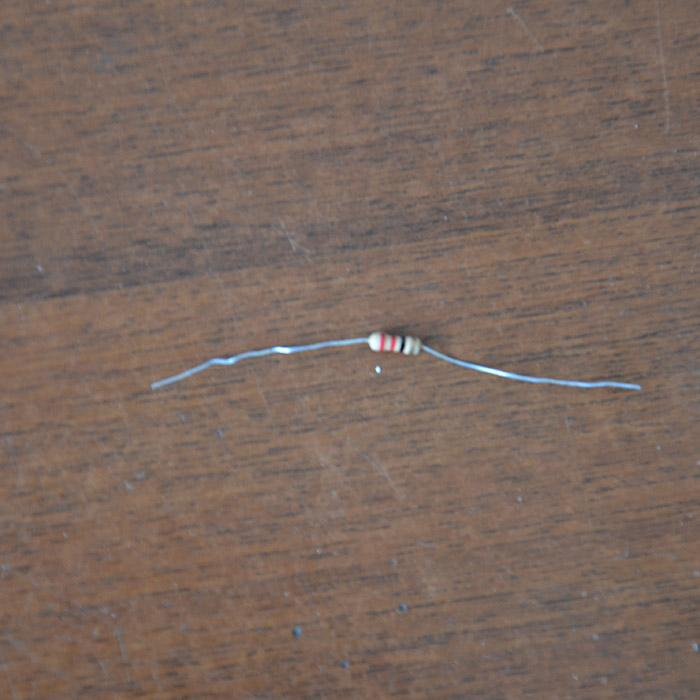resistor: (369, 330, 421, 354)
